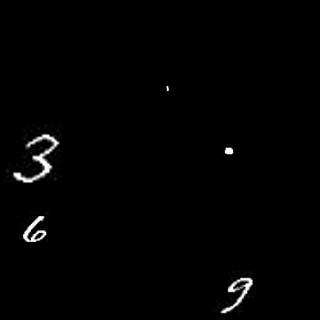dot: (219, 144, 236, 156), (163, 82, 172, 94)
nine: (211, 275, 254, 315)
six: (23, 216, 50, 245)
three: (15, 135, 63, 185)
